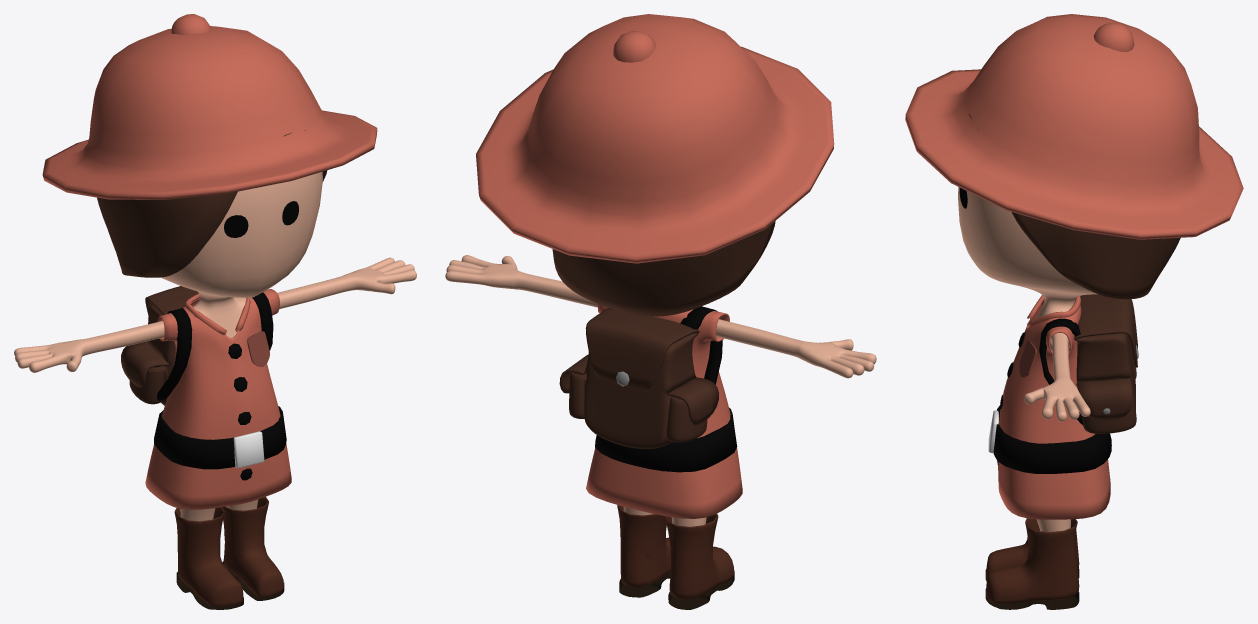
Rendered from pusher_char_mixamo.fbx.
The picture shows the model from 3 angles, left to right: view 1: azimuth 30°, elevation 25°; view 2: azimuth 150°, elevation 25°; view 3: azimuth 270°, elevation 25°; orthographic projection. The views are drawn at different scales.
Visible parts, largest first — view 1: Plane.005, Cube, Plane.001, Cube.006, Cube.001, Cube.008, Plane.002, Plane.006, Cube.007, Plane, Plane.004, Cube.012 (+1 smaller); view 2: Plane.005, Cube.008, Cube.001, Plane.001, Cube.006, Cube, Plane.002, Plane.004, Cube.012, Plane.006; view 3: Plane.005, Plane.001, Cube, Cube.008, Cube.001, Cube.006, Plane.002, Cube.012, Plane.004, Plane.006.
Part boxes in pixels (x1,y1,x2,y2): Plane.005: [42, 26, 377, 199]; Cube: [14, 171, 416, 521]; Plane.001: [145, 289, 291, 509]; Cube.006: [174, 496, 283, 606]; Cube.001: [97, 130, 327, 277]; Cube.008: [121, 286, 198, 405]; Plane.002: [154, 406, 286, 469]; Plane.006: [157, 292, 273, 400]; Cube.007: [233, 431, 264, 468]; Plane: [224, 201, 298, 237]; Plane.004: [176, 561, 284, 609]; Cube.012: [171, 14, 210, 34]; Plane.005: [476, 14, 834, 263]; Cube.008: [559, 308, 719, 448]; Cube.001: [552, 221, 775, 316]; Plane.001: [586, 304, 742, 518]; Cube.006: [617, 505, 734, 598]; Cube: [445, 255, 876, 526]; Plane.002: [595, 407, 737, 472]; Plane.004: [619, 571, 734, 609]; Cube.012: [613, 31, 655, 62]; Plane.006: [609, 306, 722, 384]; Plane.005: [905, 14, 1243, 239]; Plane.001: [998, 295, 1110, 519]; Cube: [958, 187, 1097, 531]; Cube.008: [1074, 294, 1137, 433]; Cube.001: [969, 114, 1180, 299]; Cube.006: [986, 518, 1079, 603]; Plane.002: [993, 405, 1111, 473]; Cube.012: [1093, 22, 1134, 51]; Plane.004: [985, 568, 1079, 609]; Plane.006: [1039, 301, 1082, 424].
Bounding box in the file's own units: 358 × 255 × 471.
